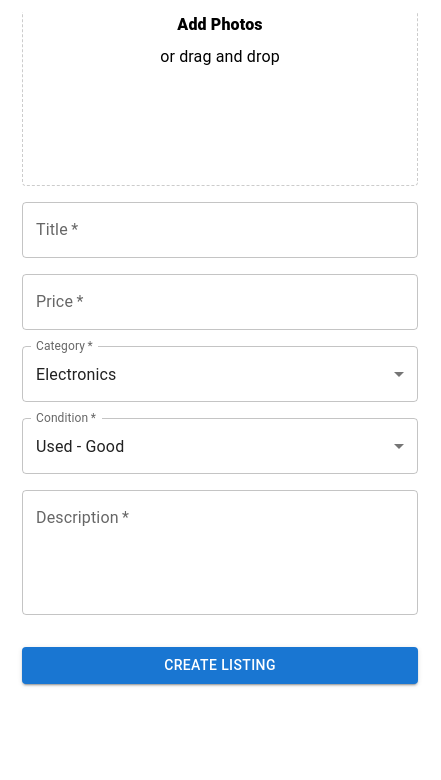
Test: <CreateListing /> › Form validation › Submiting empty form › All fields are validated & error messages are rendered
This screenshot has width=441, height=780.
(page scrolled)
Click the button "Create Listing". click: (220, 665)
box: x1=22 y1=647 x2=418 y2=684
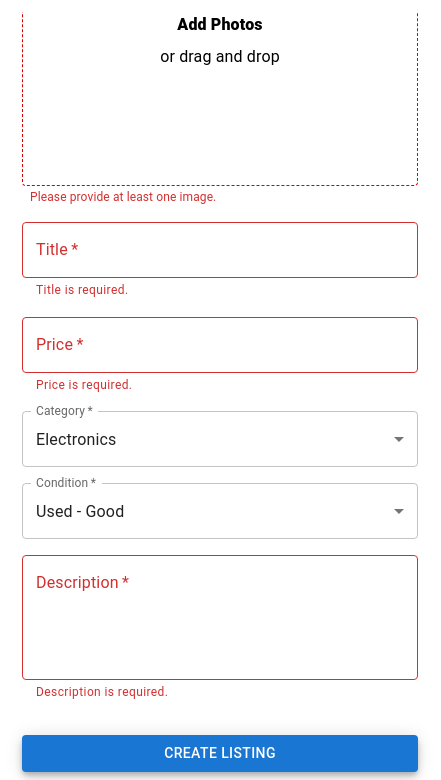
Check: the text "Please provide at least one image." is shown, box x1=30 y1=190 x2=216 y2=204
Check: the text "Title is required." is shown, box x1=36 y1=283 x2=128 y2=297
Check: the text "Price is required." is shown, box x1=36 y1=378 x2=132 y2=392
